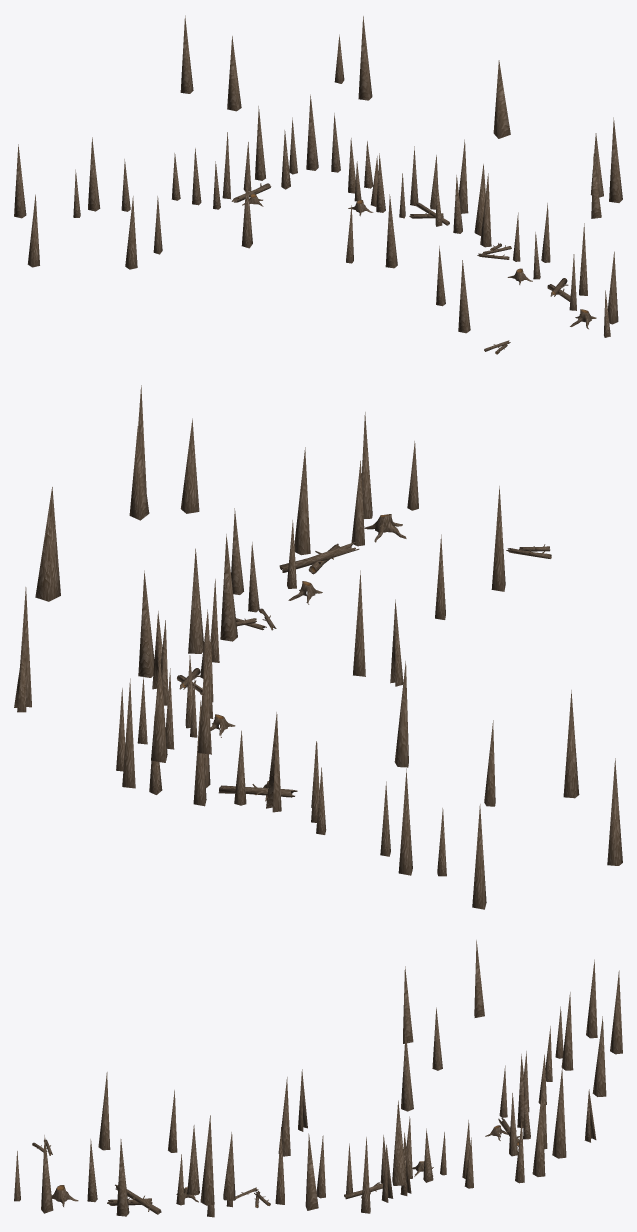
File: wujian3_1.fbx
3 renders of one model, top to bottom at view 1: azimuth 30°, elevation 25°; view 2: azimuth 150°, elevation 25°; view 3: azimuth 270°, elevation 25°, orthographic. The views are drawn at different scales.
Parts seen in each view (by area): view 1: wujian3_1; view 2: wujian3_1; view 3: wujian3_1.
Part boxes in pixels (<box>): wujian3_1: <box>14,15,622,354</box>; wujian3_1: <box>14,385,622,909</box>; wujian3_1: <box>14,940,622,1217</box>.
Size of the model in its own units: 5621 by 1742 by 5977.
